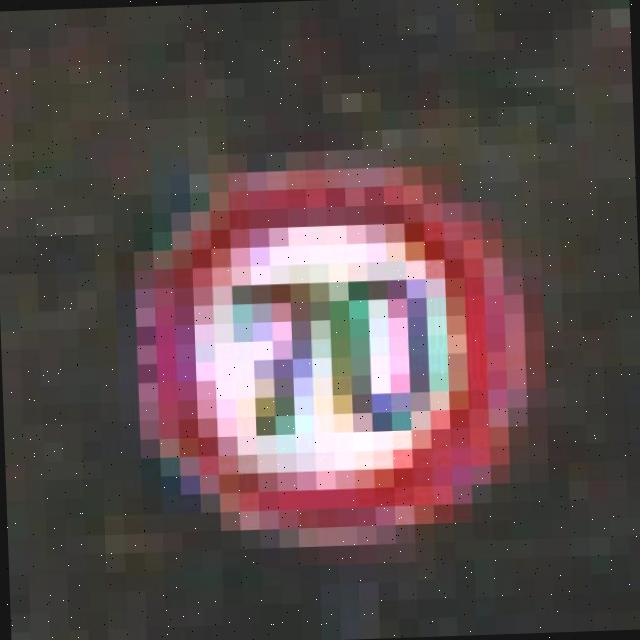Ograniczenie predkosci do 70: (140, 161, 532, 545)
